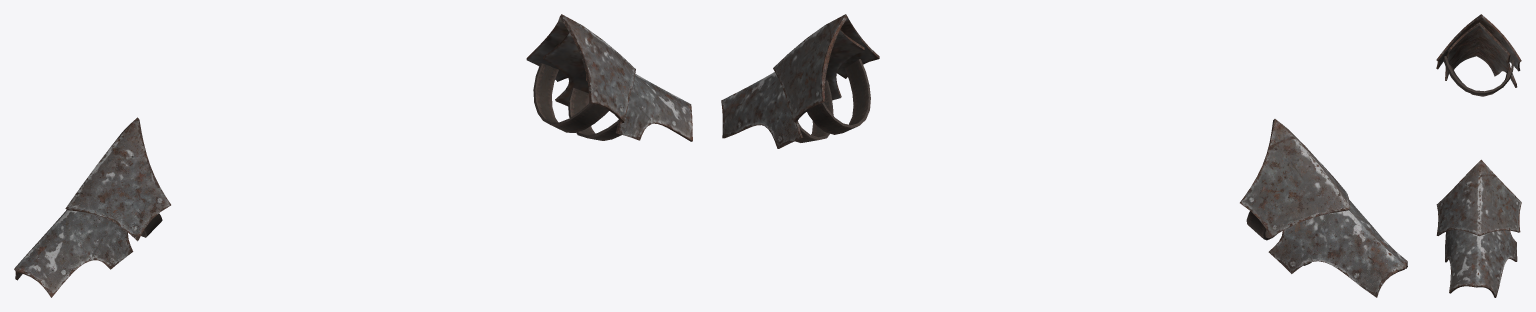
File: sk_gb_uruk_bracer_heavy_a.fbx
3 views of the same model, side by side, from view 1: azimuth 30°, elevation 25°; view 2: azimuth 150°, elevation 25°; view 3: azimuth 270°, elevation 25° (orthographic). The views are drawn at different scales.
Visible parts, largest first — view 1: sk_gb_uruk_bracer_heavy_a; view 2: sk_gb_uruk_bracer_heavy_a; view 3: sk_gb_uruk_bracer_heavy_a.
Boxes of the visible parts, left/top/right/bottom form: sk_gb_uruk_bracer_heavy_a: left=14, top=14, right=692, bottom=297; sk_gb_uruk_bracer_heavy_a: left=721, top=14, right=1407, bottom=297; sk_gb_uruk_bracer_heavy_a: left=1436, top=14, right=1521, bottom=297.
Bounding box in the file's own units: 1.39 × 0.217 × 0.281.
Materials: 1 (1 with a texture image).
